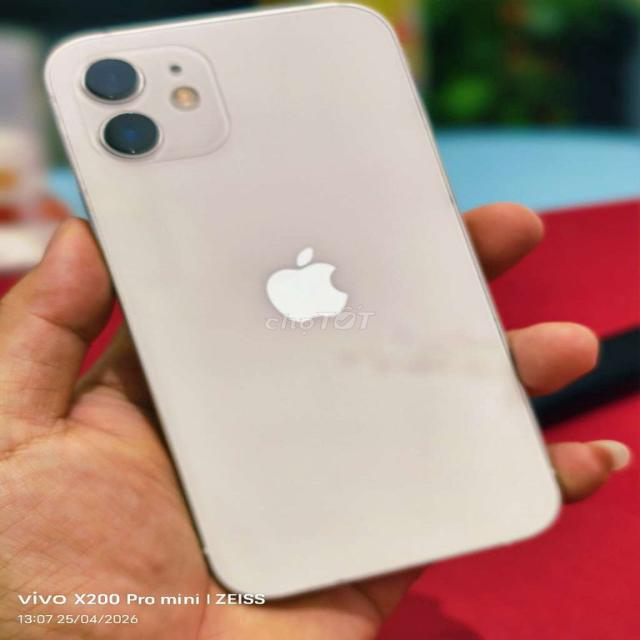gen_12_13: (40, 1, 579, 598)
